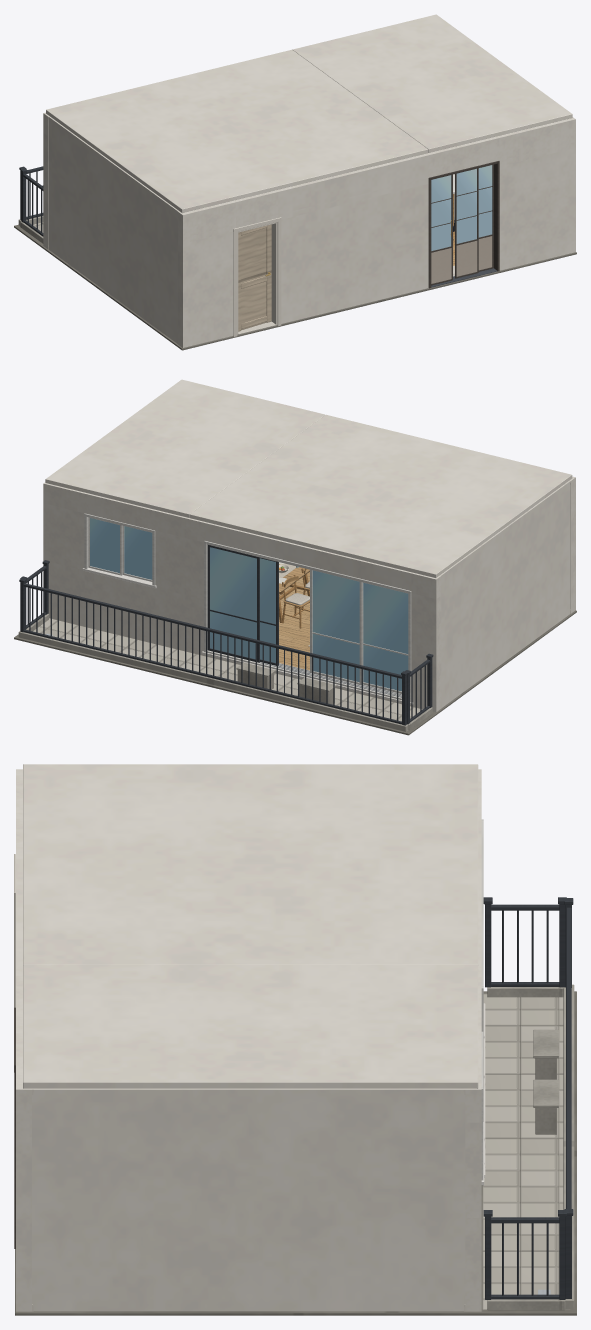
File: kr_modern_apartment_living.glb
3 renders of one model, top to bottom at view 1: azimuth 30°, elevation 25°; view 2: azimuth 150°, elevation 25°; view 3: azimuth 270°, elevation 25°, orthographic. The views are drawn at different scales.
Parts seen in each view (by area): view 1: BG_Ceiling, BG_Wall_South, BG_Wall_West, BG_Floor, BG_Wall_North; view 2: BG_Ceiling, BG_Wall_North, BG_Floor, BG_Wall_West, BG_Furniture_Hero, BG_Wall_South; view 3: BG_Ceiling, BG_Wall_East, BG_Floor, BG_Wall_South, BG_Wall_North.
Part boxes in pixels (x1,y1,x2,y2): BG_Ceiling: (46, 14, 572, 212); BG_Wall_South: (177, 117, 575, 347); BG_Wall_West: (48, 116, 178, 343); BG_Floor: (14, 166, 576, 350); BG_Wall_North: (43, 112, 49, 249); BG_Ceiling: (45, 379, 572, 578); BG_Wall_North: (43, 482, 441, 712); BG_Floor: (14, 560, 576, 735); BG_Wall_West: (440, 481, 570, 707); BG_Furniture_Hero: (279, 564, 309, 628); BG_Wall_South: (569, 476, 575, 613); BG_Ceiling: (23, 764, 478, 1088); BG_Wall_East: (32, 1089, 465, 1311); BG_Floor: (15, 897, 576, 1315); BG_Wall_South: (14, 769, 33, 1311); BG_Wall_North: (463, 769, 485, 1311).
Bounding box in the file's own units: 8.4 × 2.82 × 6.21.
4 materials, 4 textured.
